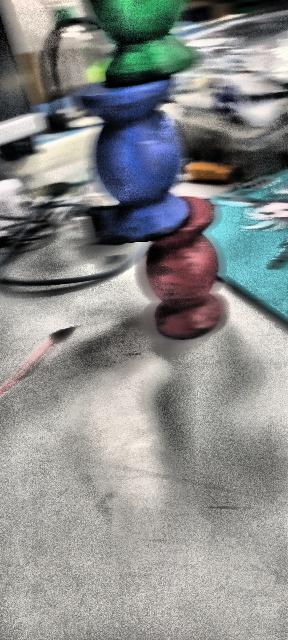blue: (74, 85, 191, 237)
green: (86, 0, 186, 90)
red: (149, 192, 234, 338)
